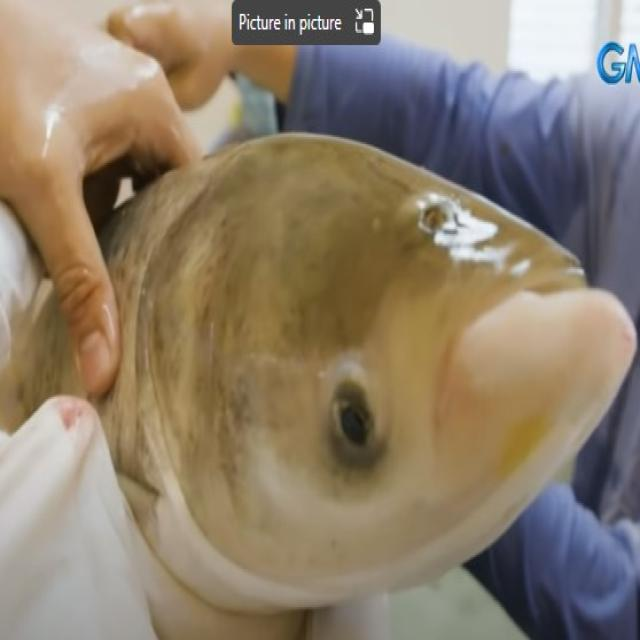Big-Head-Carp: (20, 154, 640, 594)
